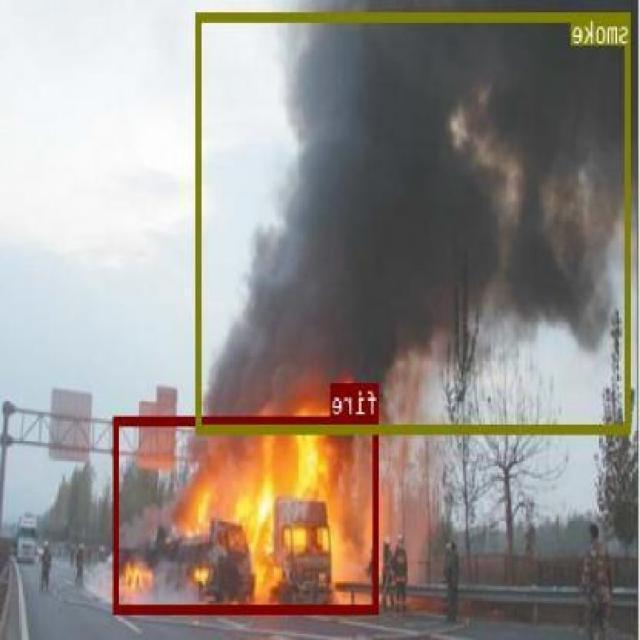Fire: (115, 410, 393, 608)
Smoke: (202, 0, 640, 475)
